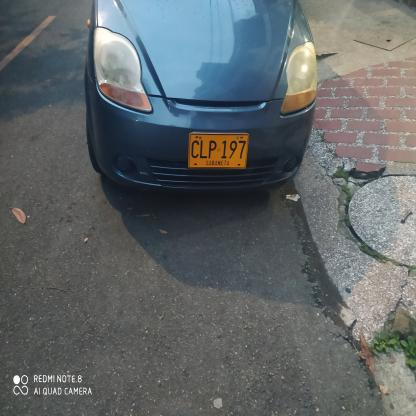placa: (185, 129, 250, 171)
